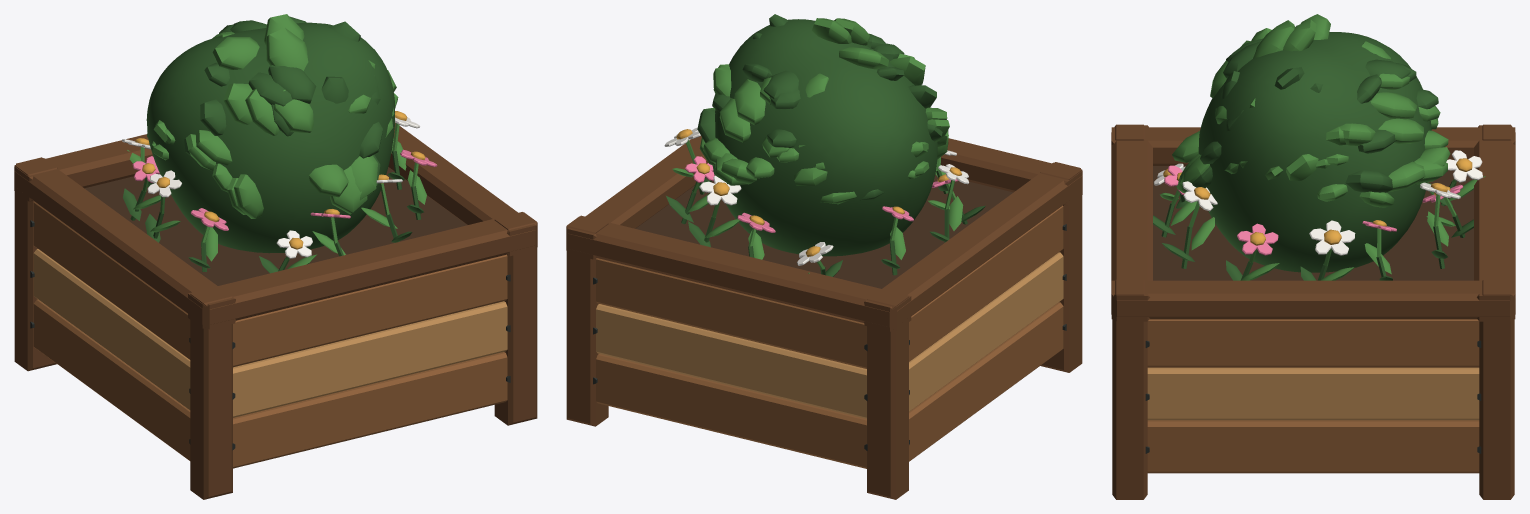
File: planter.glb
The picture shows the model from 3 angles, left to right: view 1: azimuth 30°, elevation 25°; view 2: azimuth 150°, elevation 25°; view 3: azimuth 270°, elevation 25°; orthographic projection. The views are drawn at different scales.
Parts seen in each view (by area): view 1: leafDark49, woodTop1, plank0, plank2, woodDark3, soil48, woodDark36, woodTop34, plank33, woodDark46, plank35, woodDark47 (+18 smaller); view 2: leafDark49, plank22, woodTop23, plank24, woodDark25, soil48, woodDark36, woodTop34, plank33, woodDark44, plank35, woodDark45 (+10 smaller); view 3: leafDark49, plank11, woodTop12, plank13, woodDark14, soil48, woodDark45, woodDark47, woodDark3, woodDark25, woodDark36, leaf115 (+19 smaller).
Boxes of the visible parts, <box> form: leafDark49: <box>146,22,394,253</box>; woodTop1: <box>233,301,507,417</box>; plank0: <box>233,352,507,468</box>; plank2: <box>233,254,507,367</box>; woodDark3: <box>188,212,537,328</box>; soil48: <box>84,167,467,285</box>; woodDark36: <box>14,157,235,329</box>; woodTop34: <box>33,249,190,410</box>; plank33: <box>33,299,190,460</box>; woodDark46: <box>190,286,232,499</box>; plank35: <box>33,201,190,359</box>; woodDark47: <box>494,212,537,425</box>; leafDark49: <box>712,19,937,256</box>; plank22: <box>596,354,866,468</box>; woodTop23: <box>596,304,866,418</box>; plank24: <box>596,258,866,368</box>; woodDark25: <box>566,215,911,330</box>; soil48: <box>635,174,1013,288</box>; woodDark36: <box>864,162,1082,331</box>; woodTop34: <box>909,252,1063,411</box>; plank33: <box>909,302,1063,461</box>; woodDark44: <box>867,289,908,499</box>; plank35: <box>909,205,1063,361</box>; woodDark45: <box>566,216,608,426</box>; leafDark49: <box>1198,32,1431,272</box>; plank11: <box>1147,420,1479,473</box>; woodTop12: <box>1147,367,1479,420</box>; plank13: <box>1147,319,1479,367</box>; woodDark14: <box>1111,280,1515,319</box>; soil48: <box>1153,166,1473,280</box>; woodDark45: <box>1479,279,1514,499</box>; woodDark47: <box>1112,279,1147,499</box>; woodDark3: <box>1111,125,1152,321</box>; woodDark25: <box>1474,125,1515,321</box>; woodDark36: <box>1111,127,1515,165</box>; leaf115: <box>1370,92,1417,119</box>.
Size of the model in its own units: 0.901 by 0.9638 by 0.901.
